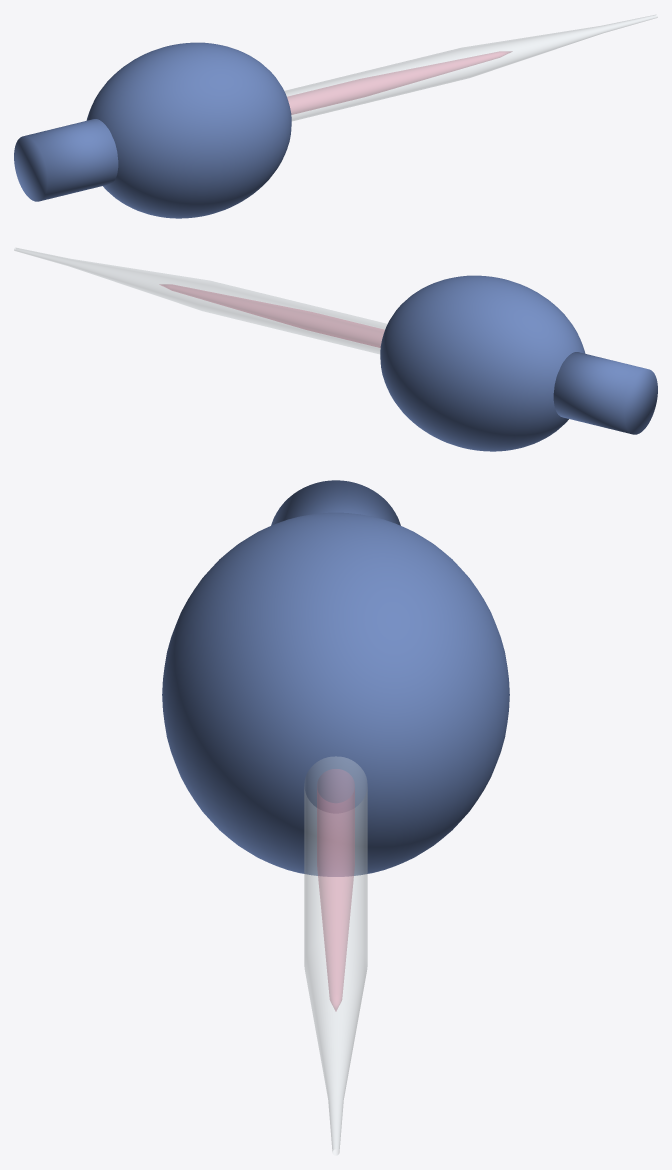
The model's file is dropper.glb.
3 renders of one model, top to bottom at view 1: azimuth 30°, elevation 25°; view 2: azimuth 150°, elevation 25°; view 3: azimuth 270°, elevation 25°, orthographic. The views are drawn at different scales.
Visible parts, largest first — view 1: dropper-rubber-bulb, dropper-glass-pipette, dropper-bulb-neck, dropper-solution; view 2: dropper-rubber-bulb, dropper-glass-pipette, dropper-bulb-neck, dropper-solution; view 3: dropper-rubber-bulb, dropper-glass-pipette, dropper-solution, dropper-bulb-neck.
Part boxes in pixels (left/top/right/bottom): dropper-rubber-bulb: left=86, top=42, right=291, bottom=218; dropper-glass-pipette: left=284, top=14, right=657, bottom=121; dropper-bulb-neck: left=14, top=119, right=118, bottom=201; dropper-solution: left=287, top=51, right=512, bottom=114; dropper-rubber-bulb: left=380, top=275, right=585, bottom=451; dropper-glass-pipette: left=14, top=247, right=387, bottom=354; dropper-bulb-neck: left=553, top=352, right=657, bottom=434; dropper-solution: left=159, top=284, right=384, bottom=347; dropper-rubber-bulb: left=162, top=512, right=509, bottom=876; dropper-glass-pipette: left=304, top=756, right=367, bottom=1155; dropper-solution: left=317, top=769, right=354, bottom=1011; dropper-bulb-neck: left=271, top=480, right=400, bottom=525.
Bounding box in the file's own units: 0.183 × 0.044 × 0.044.
